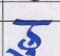u_matra: (8, 47, 38, 56)
